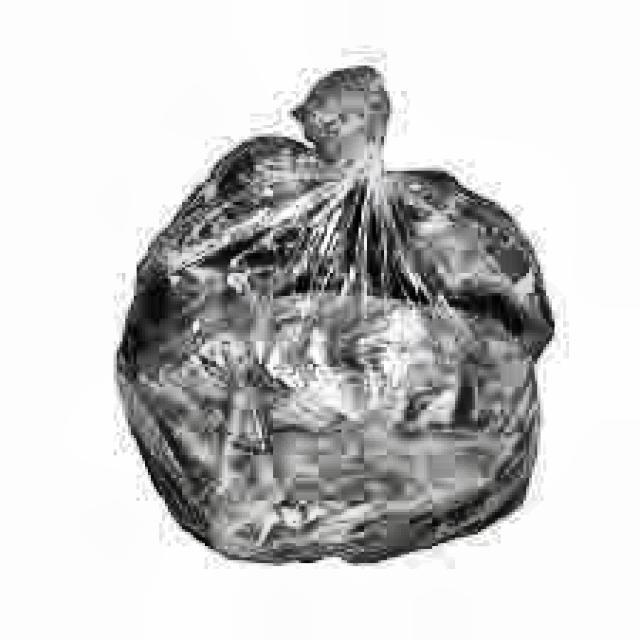Trashbag: (122, 147, 555, 566)
